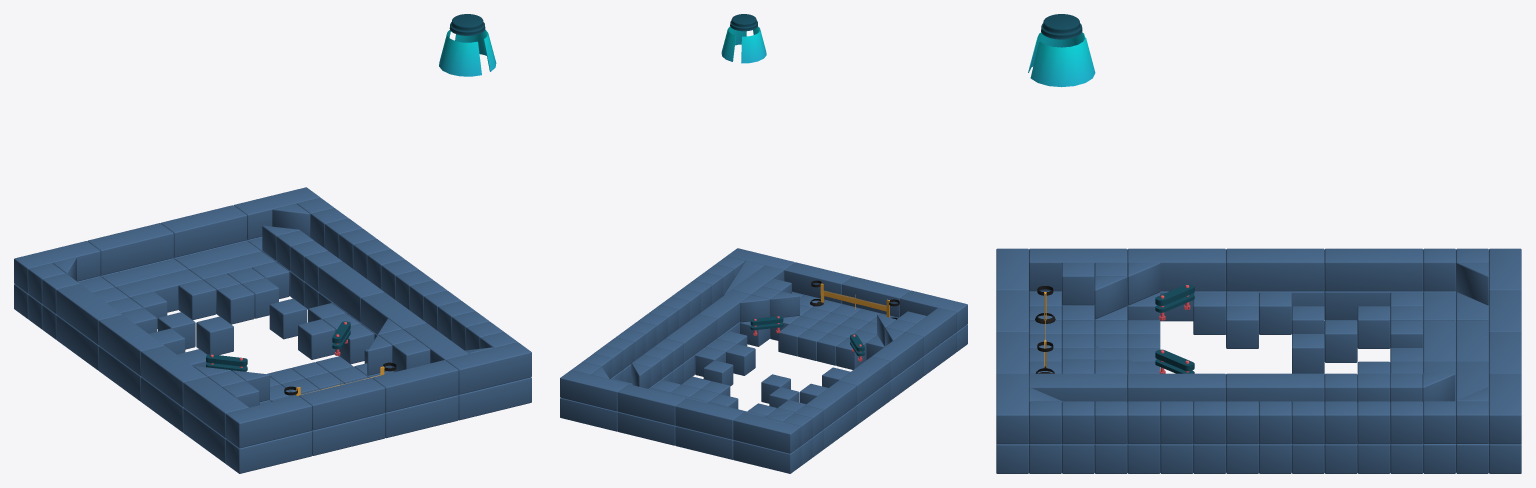
File: Pinball_Set.FBX
3 views of the same model, side by side, from view 1: azimuth 30°, elevation 25°; view 2: azimuth 150°, elevation 25°; view 3: azimuth 270°, elevation 25° (orthographic). The views are drawn at different scales.
Visible parts, largest first — view 1: Top, Base, Section-topR, spawnFX, Setion-topL, Floaty Spawner, Straight Bumper; view 2: Top, Base, Section-topR, spawnFX, Setion-topL, Straight Bumper, Ramp; view 3: Top, Base, Setion-topL, spawnFX, Straight Bumper (×2), Section-topR, Floaty Spawner.
Part boxes in pixels (x1=…): Top: x1=14, y1=187, x2=531, y2=448; Base: x1=14, y1=236, x2=531, y2=473; Section-topR: x1=367, y1=318, x2=430, y2=375; spawnFX: x1=439, y1=29, x2=496, y2=76; Setion-topL: x1=193, y1=366, x2=269, y2=407; Floaty Spawner: x1=449, y1=14, x2=485, y2=35; Straight Bumper: x1=206, y1=354, x2=247, y2=371; Top: x1=560, y1=248, x2=967, y2=453; Base: x1=560, y1=291, x2=967, y2=473; Section-topR: x1=740, y1=278, x2=799, y2=322; spawnFX: x1=721, y1=26, x2=766, y2=63; Setion-topL: x1=877, y1=311, x2=926, y2=346; Straight Bumper: x1=750, y1=316, x2=783, y2=335; Ramp: x1=723, y1=261, x2=764, y2=295; Top: x1=996, y1=248, x2=1521, y2=444; Base: x1=996, y1=290, x2=1521, y2=473; Setion-topL: x1=1062, y1=262, x2=1160, y2=319; spawnFX: x1=1028, y1=32, x2=1095, y2=87; Straight Bumper (×2): x1=1155, y1=284, x2=1194, y2=373; Section-topR: x1=1062, y1=346, x2=1160, y2=374; Floaty Spawner: x1=1041, y1=14, x2=1082, y2=39.
Bounding box in the file's own units: 1200 × 1600 × 1452.
1 material, 1 textured.
